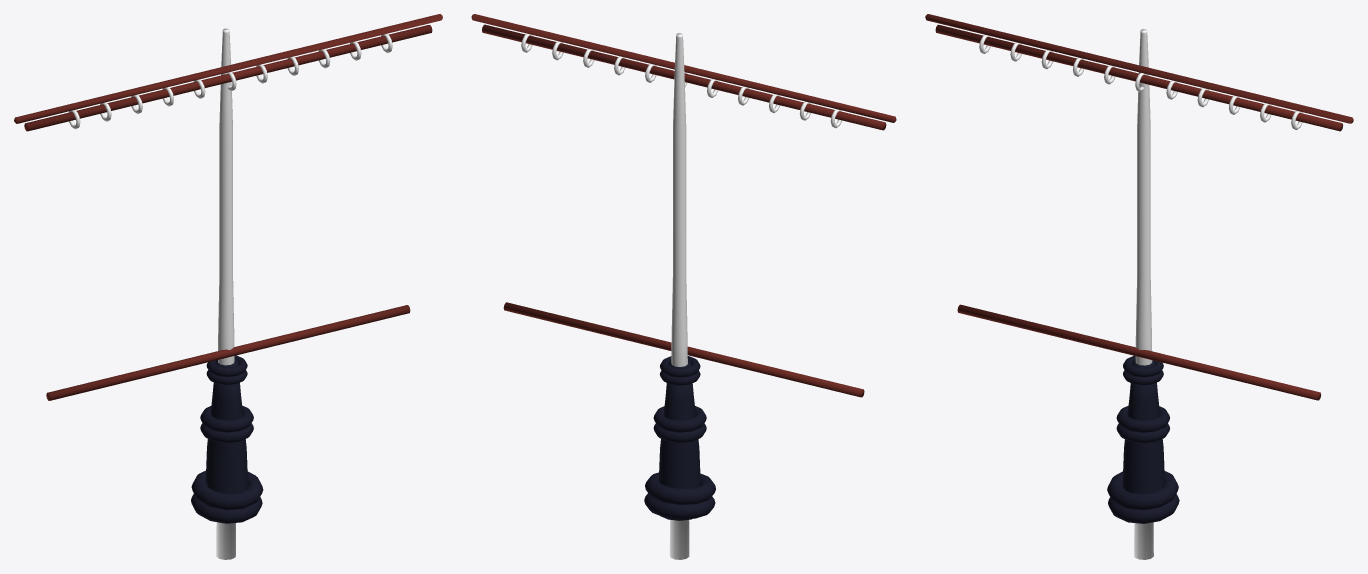
The model's file is BackPole.fbx.
3 renders of one model, left to right at view 1: azimuth 30°, elevation 25°; view 2: azimuth 150°, elevation 25°; view 3: azimuth 330°, elevation 25°, orthographic.
Parts seen in each view (by area): view 1: BackPole_LOD0; view 2: BackPole_LOD0; view 3: BackPole_LOD0.
Part boxes in pixels (left/top/right/bottom): BackPole_LOD0: left=14, top=14, right=442, bottom=559; BackPole_LOD0: left=471, top=14, right=896, bottom=559; BackPole_LOD0: left=925, top=14, right=1353, bottom=559.
Size of what is drawn, in the model's own units: 23.76 by 27.95 by 3.52.
4 materials, 1 textured.
